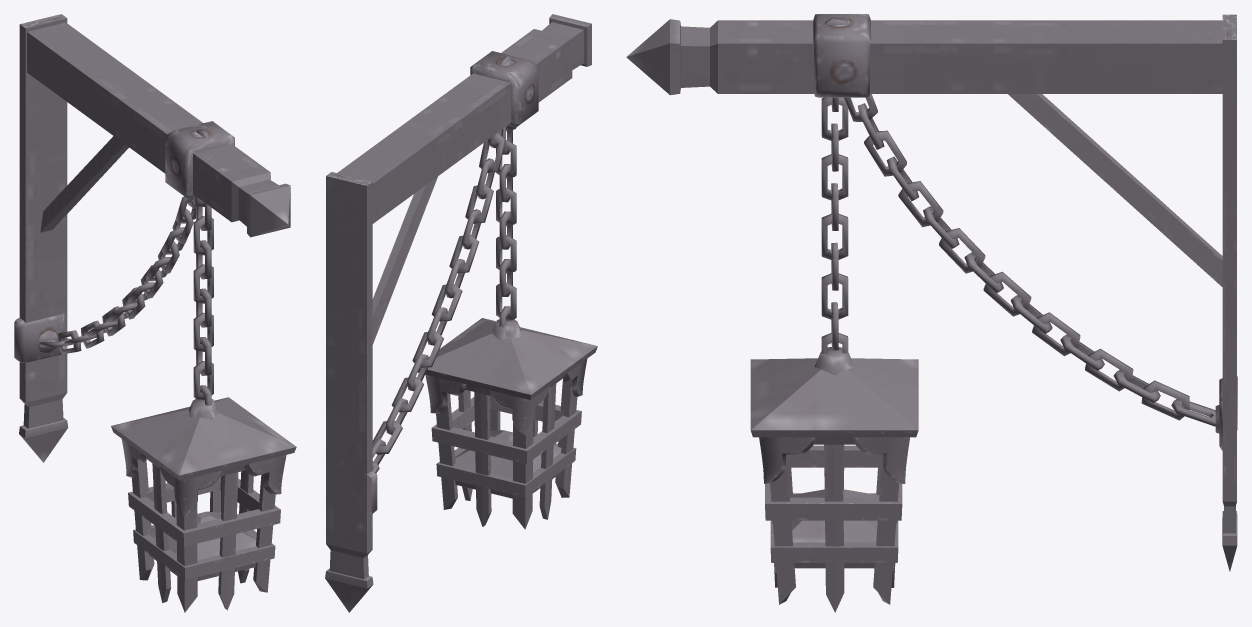
File: Lantern_Wall.glb
The picture shows the model from 3 angles, left to right: view 1: azimuth 30°, elevation 25°; view 2: azimuth 150°, elevation 25°; view 3: azimuth 270°, elevation 25°; orthographic projection. The views are drawn at different scales.
Visible parts, largest first — view 1: Lantern_Wall; view 2: Lantern_Wall; view 3: Lantern_Wall.
Boxes of the visible parts, x1,y1,x2,y2 form: Lantern_Wall: (14,14,296,612); Lantern_Wall: (325,14,597,612); Lantern_Wall: (626,14,1237,612).
Size of the model in its own units: 0.3573 by 1.34 by 1.3.
Materials: 1 (1 with a texture image).
